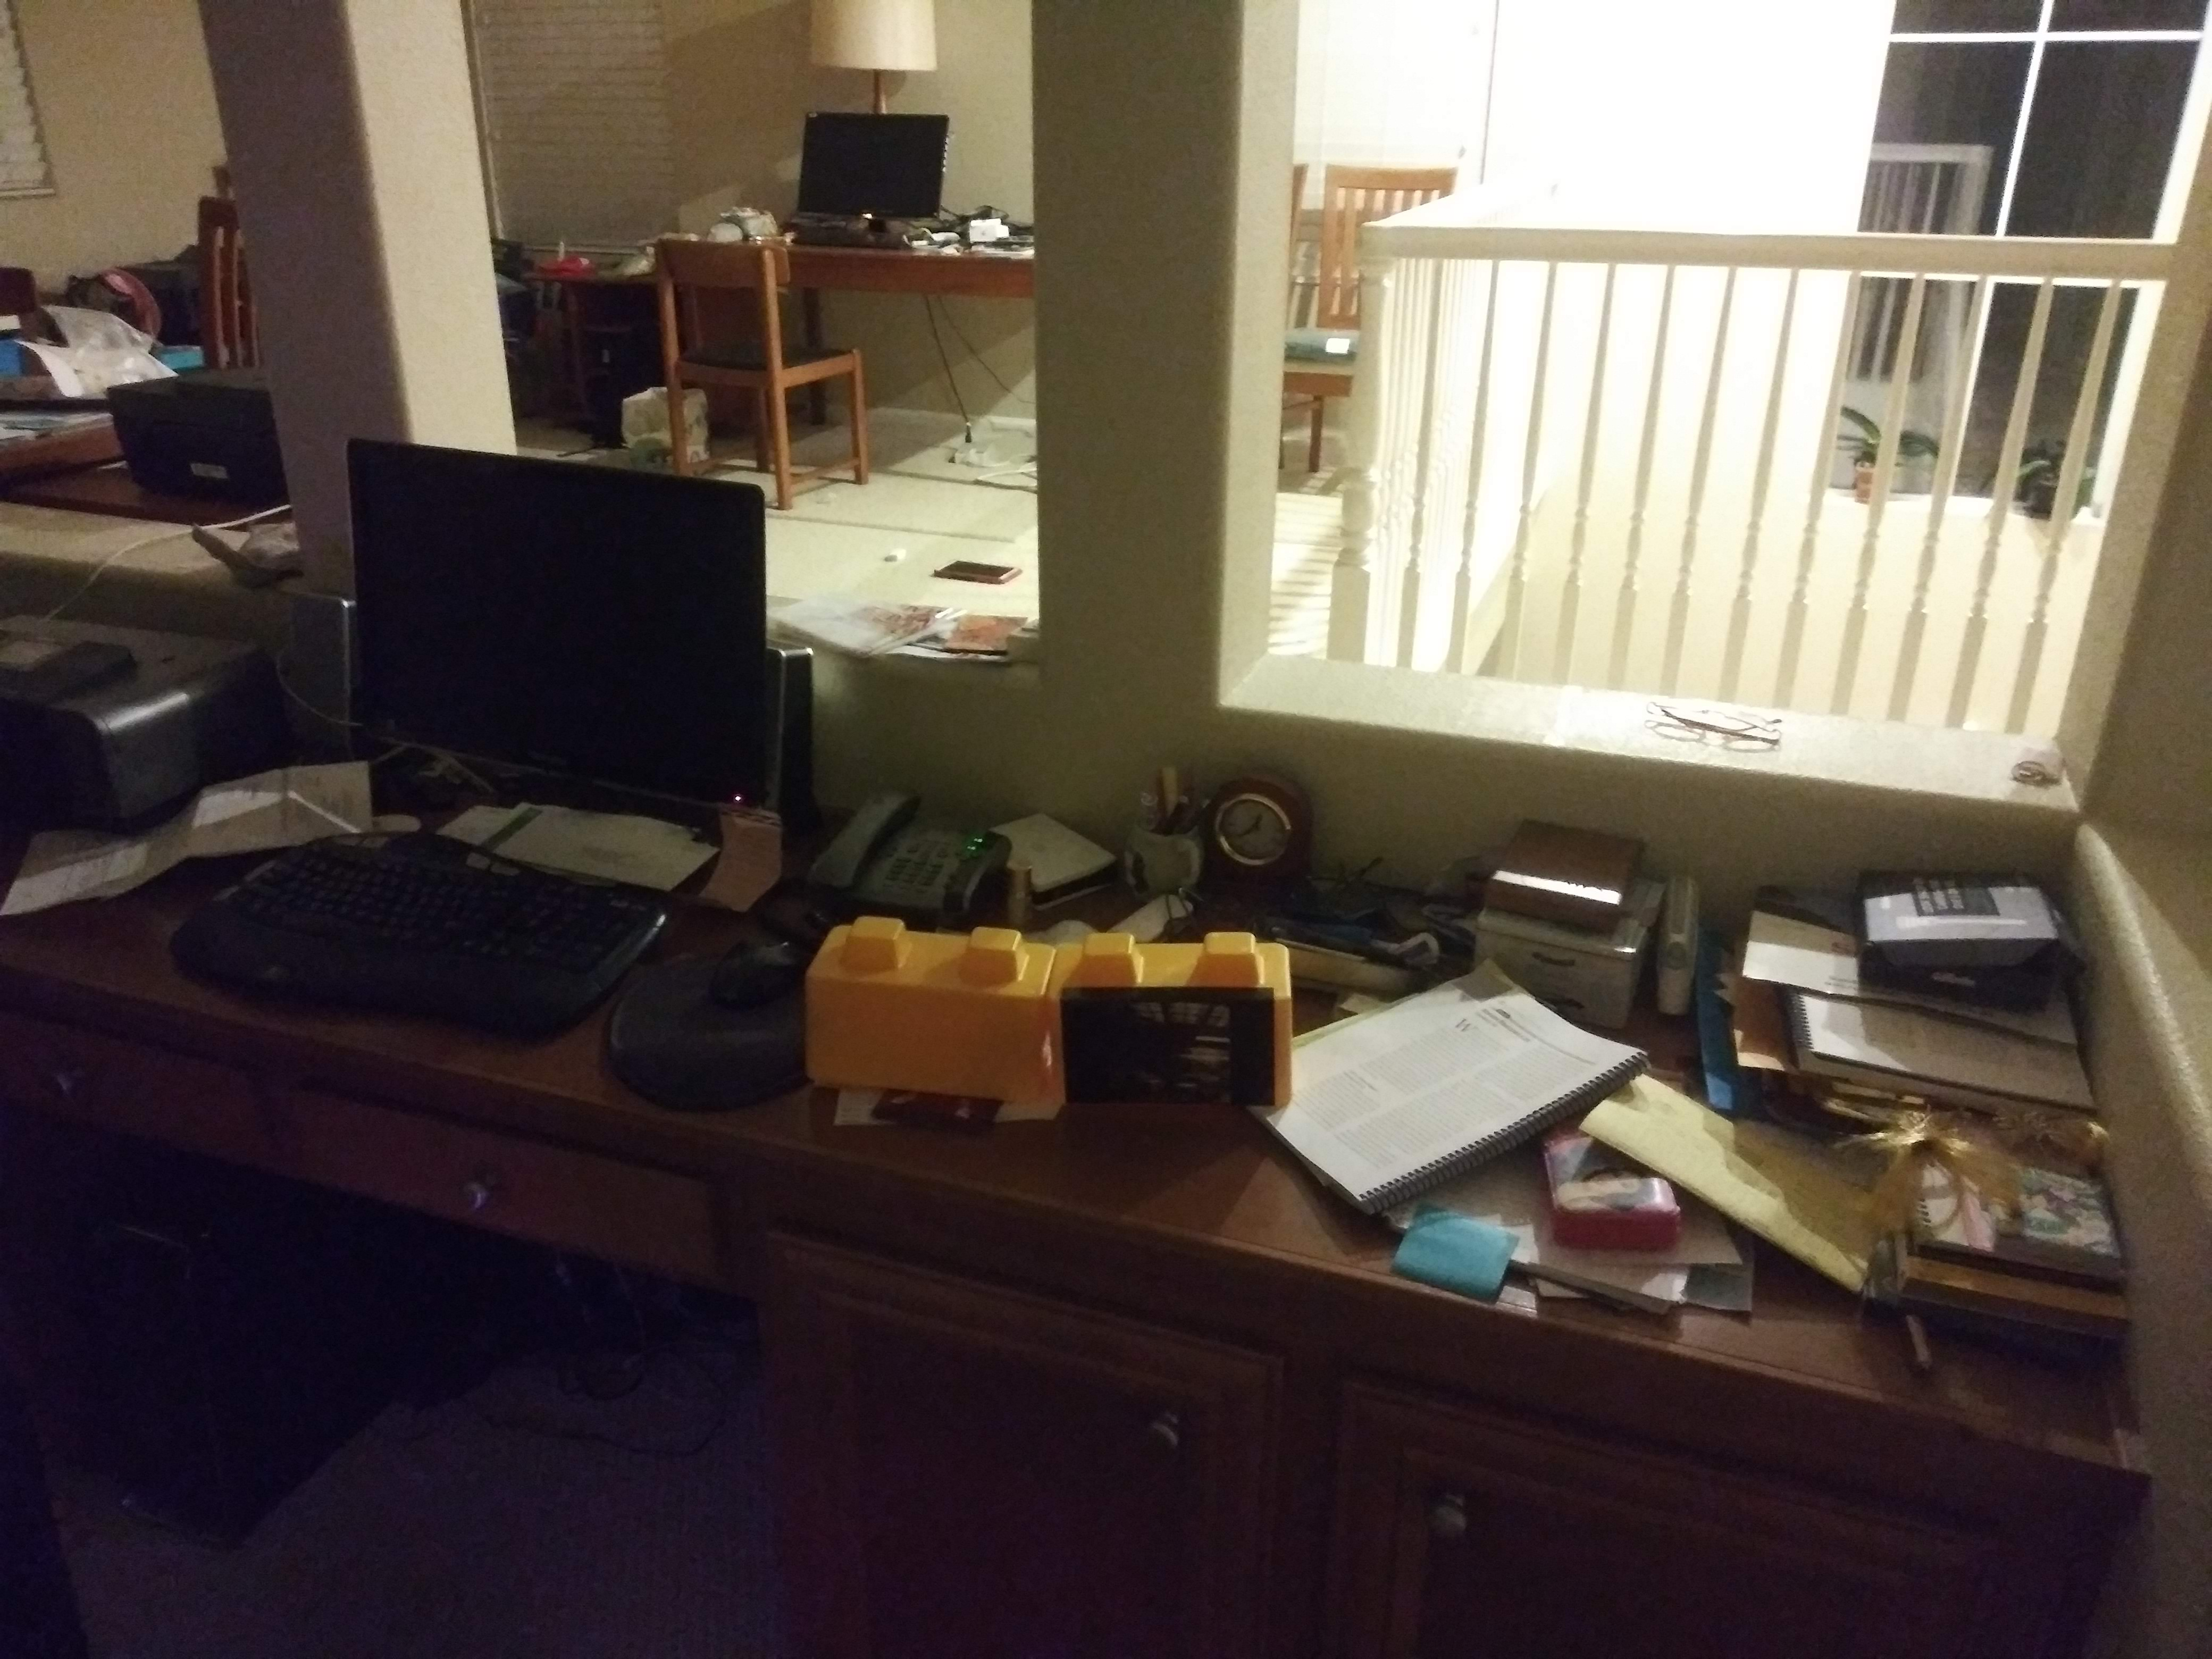skystone: (1064, 951, 1291, 1117)
stone: (806, 934, 1047, 1100)
